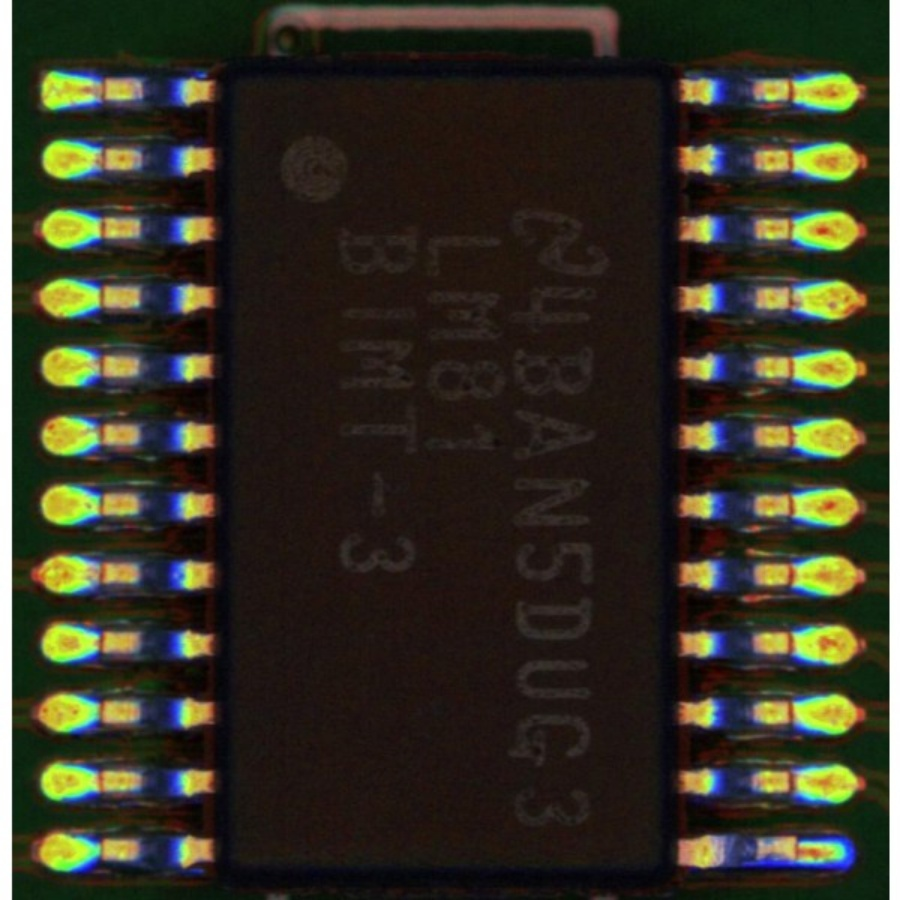Bad_podu: (770, 290, 816, 309), (773, 497, 821, 515), (775, 567, 815, 587), (79, 81, 120, 98), (780, 843, 817, 860)
